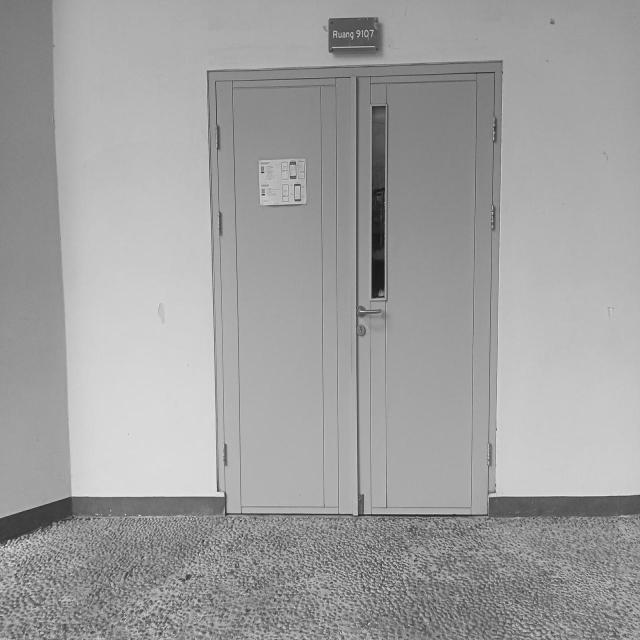door: (207, 61, 503, 518)
